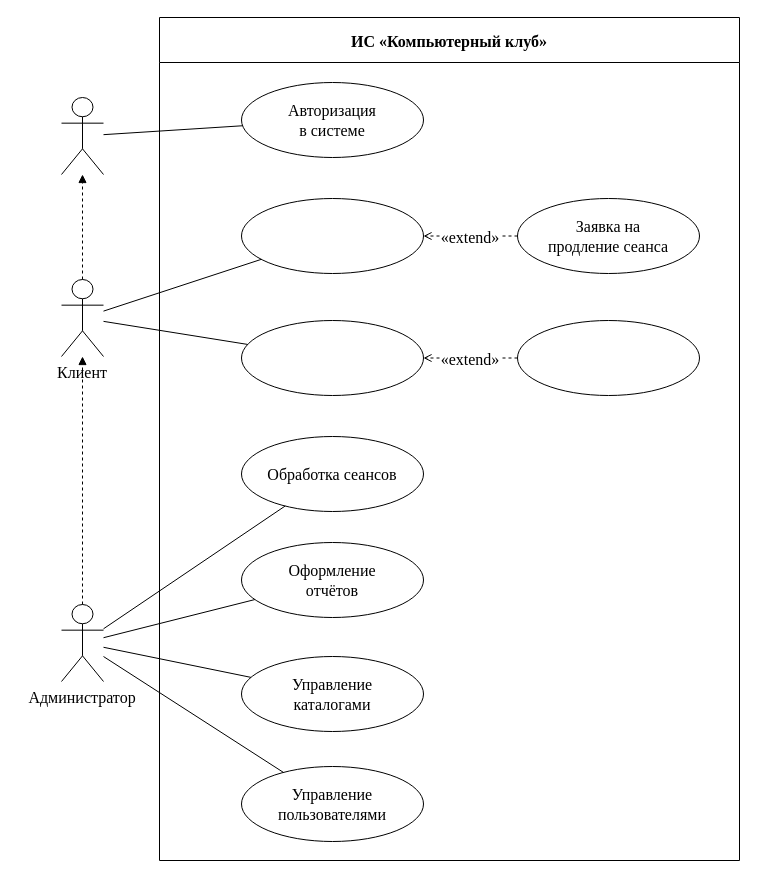
Image size: 757x878. Some labels were removed from this diagram. The centre of each missing label's shape, as x and y in pixels:
"Неавторизованный пользователь" goes at point (82, 135).
"Поиск и фильтрация" goes at point (608, 358).
"Просмотр времени" goes at point (332, 236).
"Просмотр каталога свободных ПК" goes at point (332, 358).
